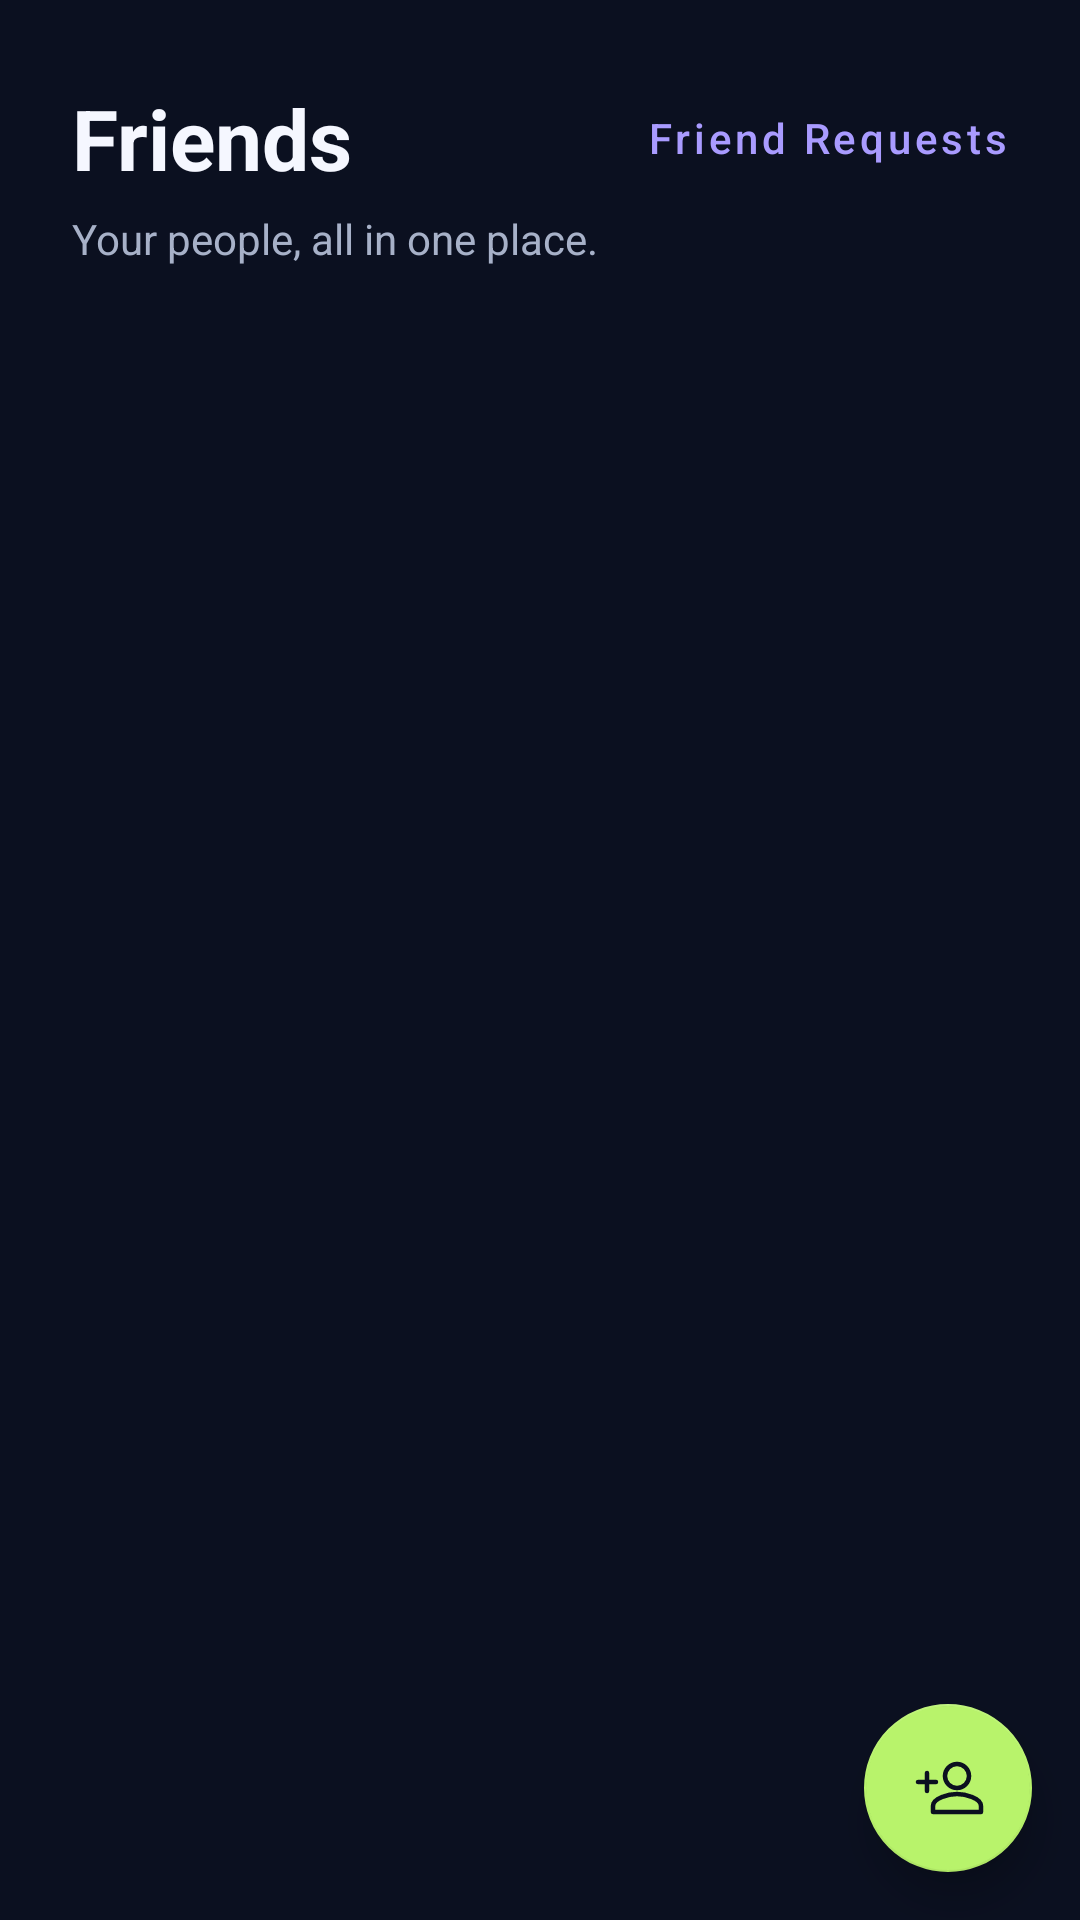

Locate icon controls on the screen. Image size 1080x1920, boxes as (x1, y1, x2, y2).
Add a friend: (864, 1704, 1032, 1872)
